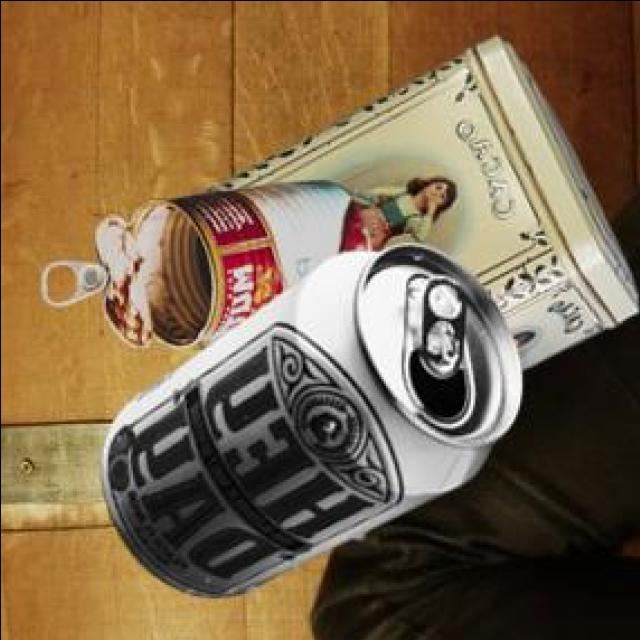logam: (97, 247, 518, 601), (194, 39, 634, 373), (37, 185, 368, 352)
